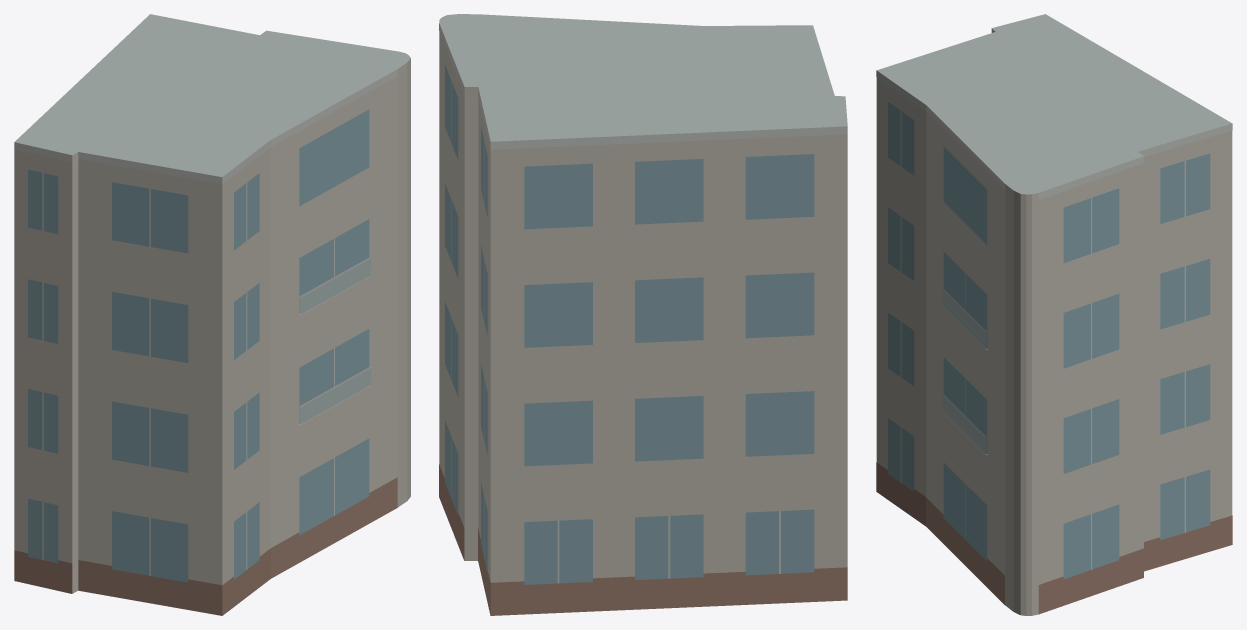
Rendered from survey-upis-32989771.glb.
3 views of the same model, side by side, from view 1: azimuth 30°, elevation 25°; view 2: azimuth 150°, elevation 25°; view 3: azimuth 270°, elevation 25° (orthographic). The views are drawn at different scales.
Visible parts, largest first — view 1: survey-upis-32989771.tmp; view 2: survey-upis-32989771.tmp; view 3: survey-upis-32989771.tmp.
Boxes of the visible parts, <box> form: survey-upis-32989771.tmp: <box>14,14,410,615</box>; survey-upis-32989771.tmp: <box>439,14,847,615</box>; survey-upis-32989771.tmp: <box>876,14,1232,615</box>.
Size of the model in its own units: 13.5 by 14.7 by 11.26.
